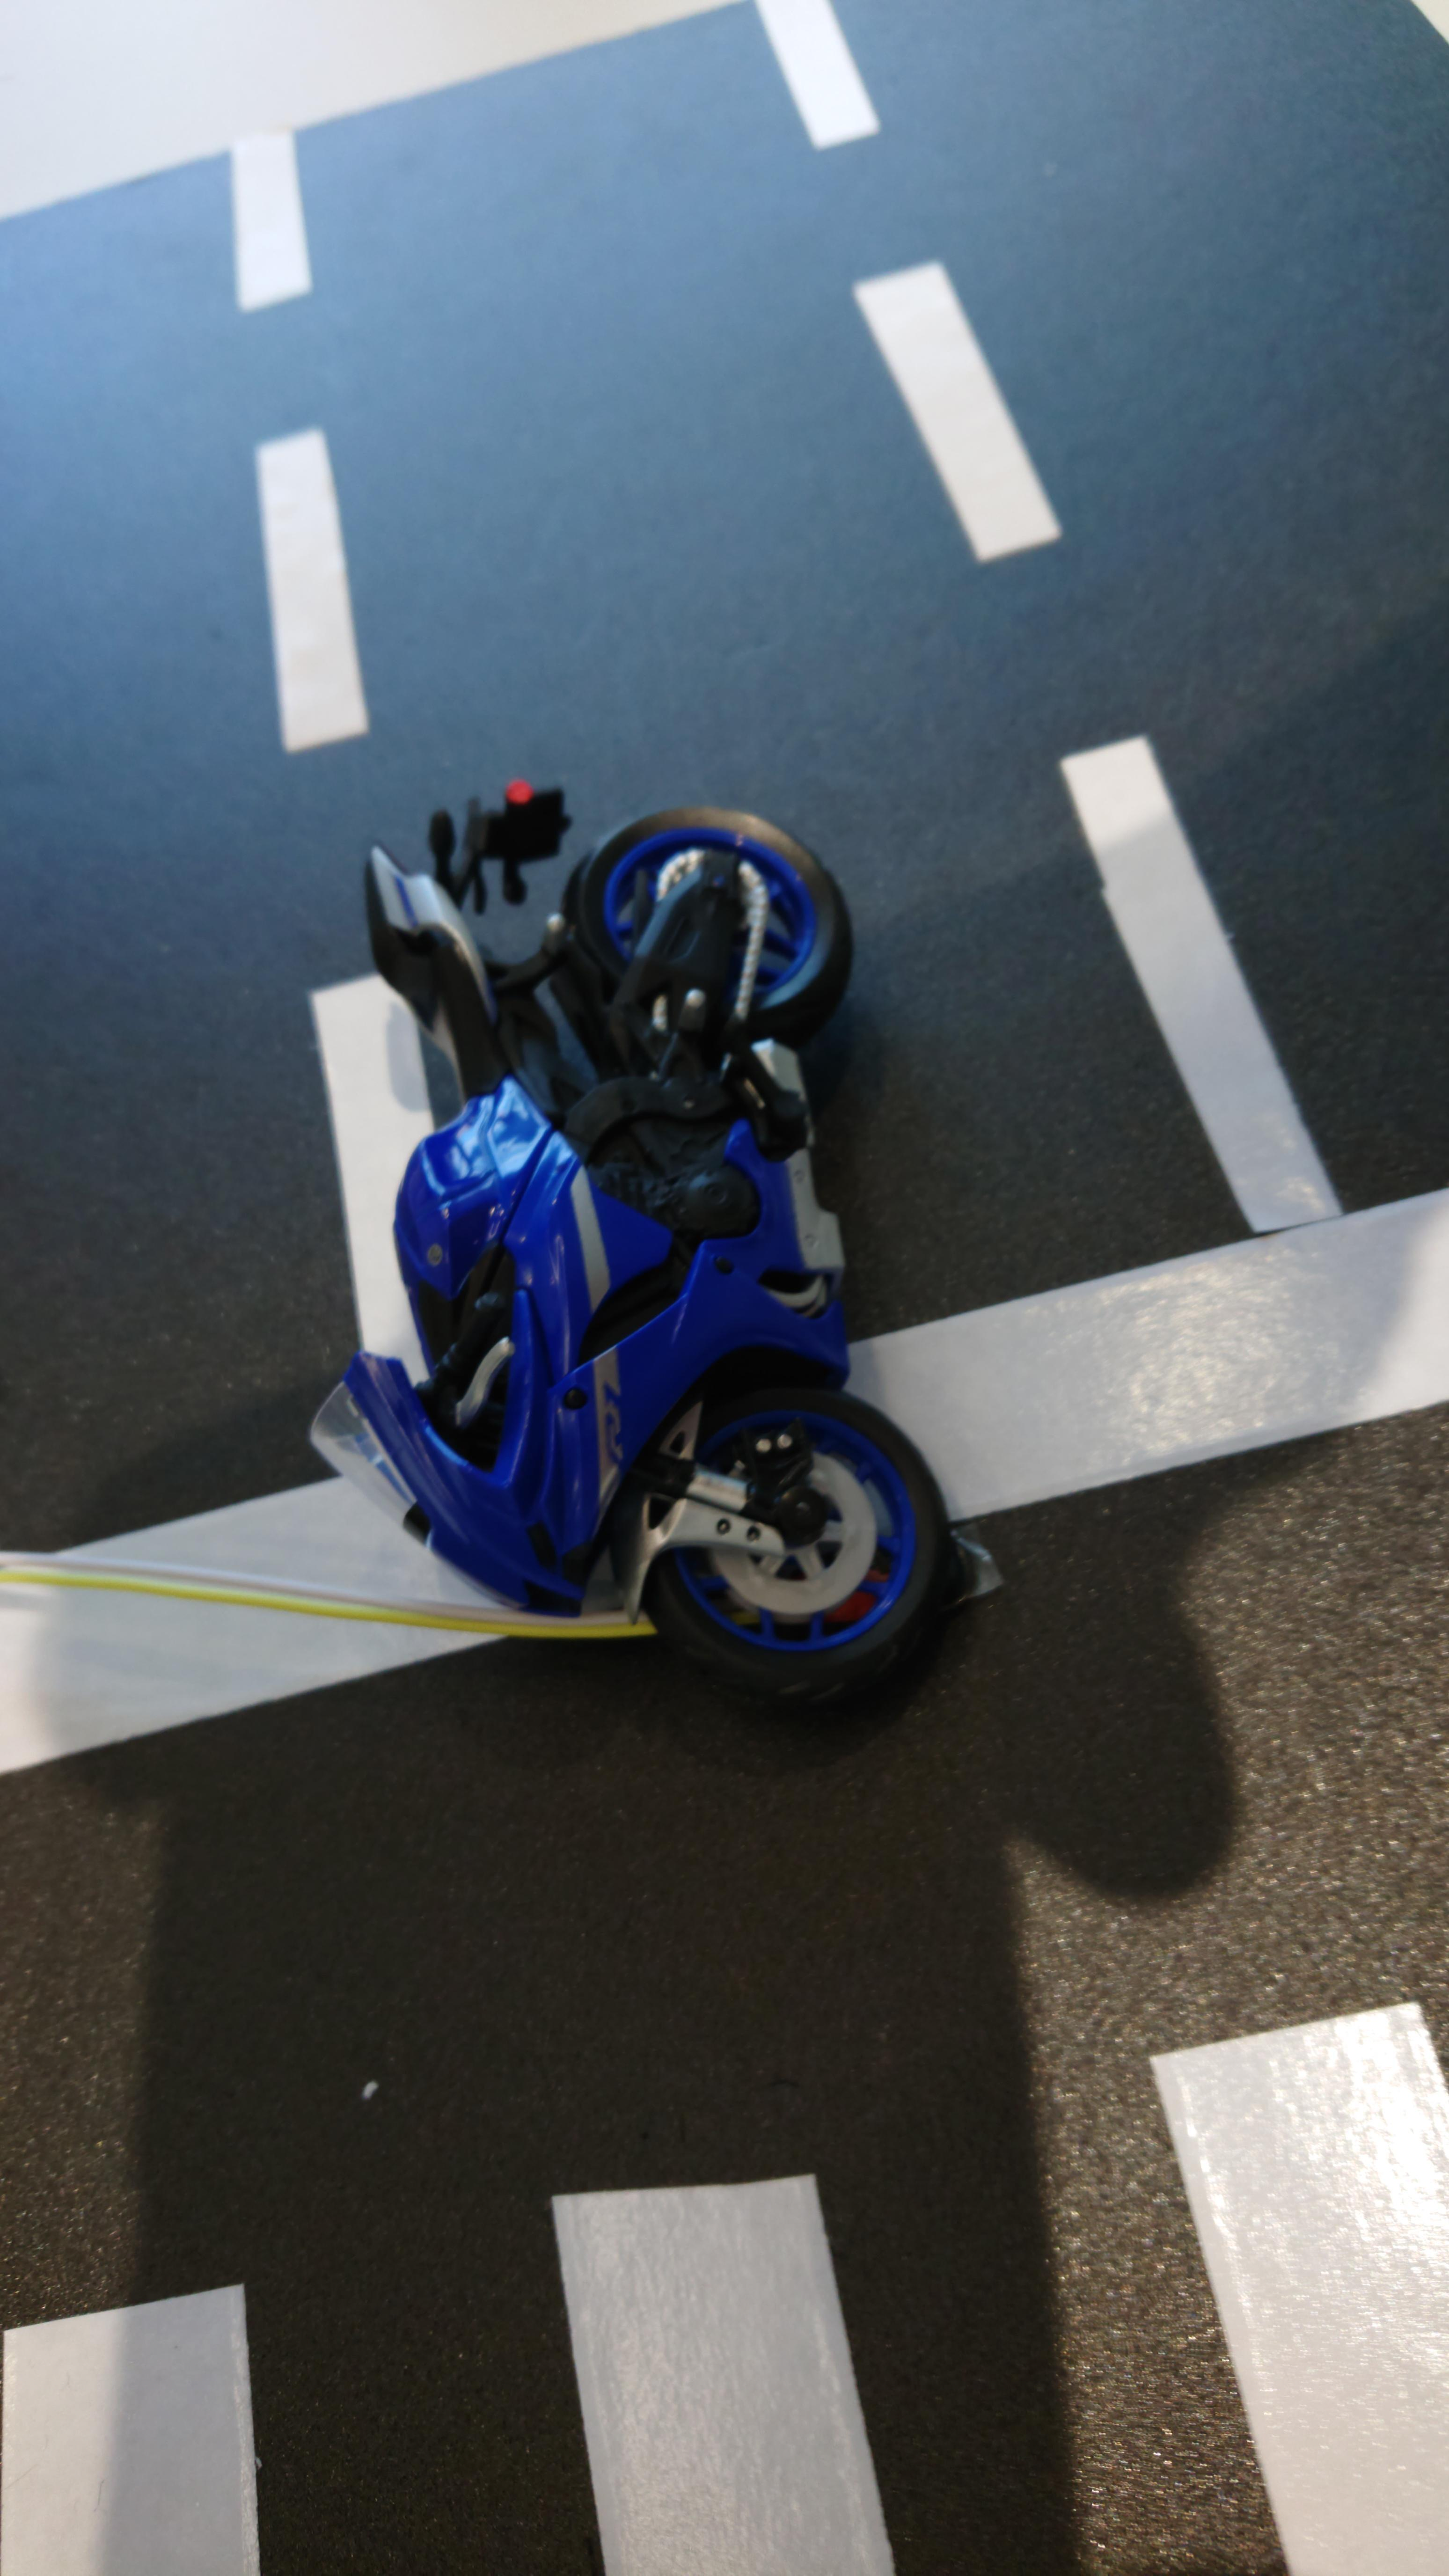Motorcycle: (271, 697, 1049, 1775)
